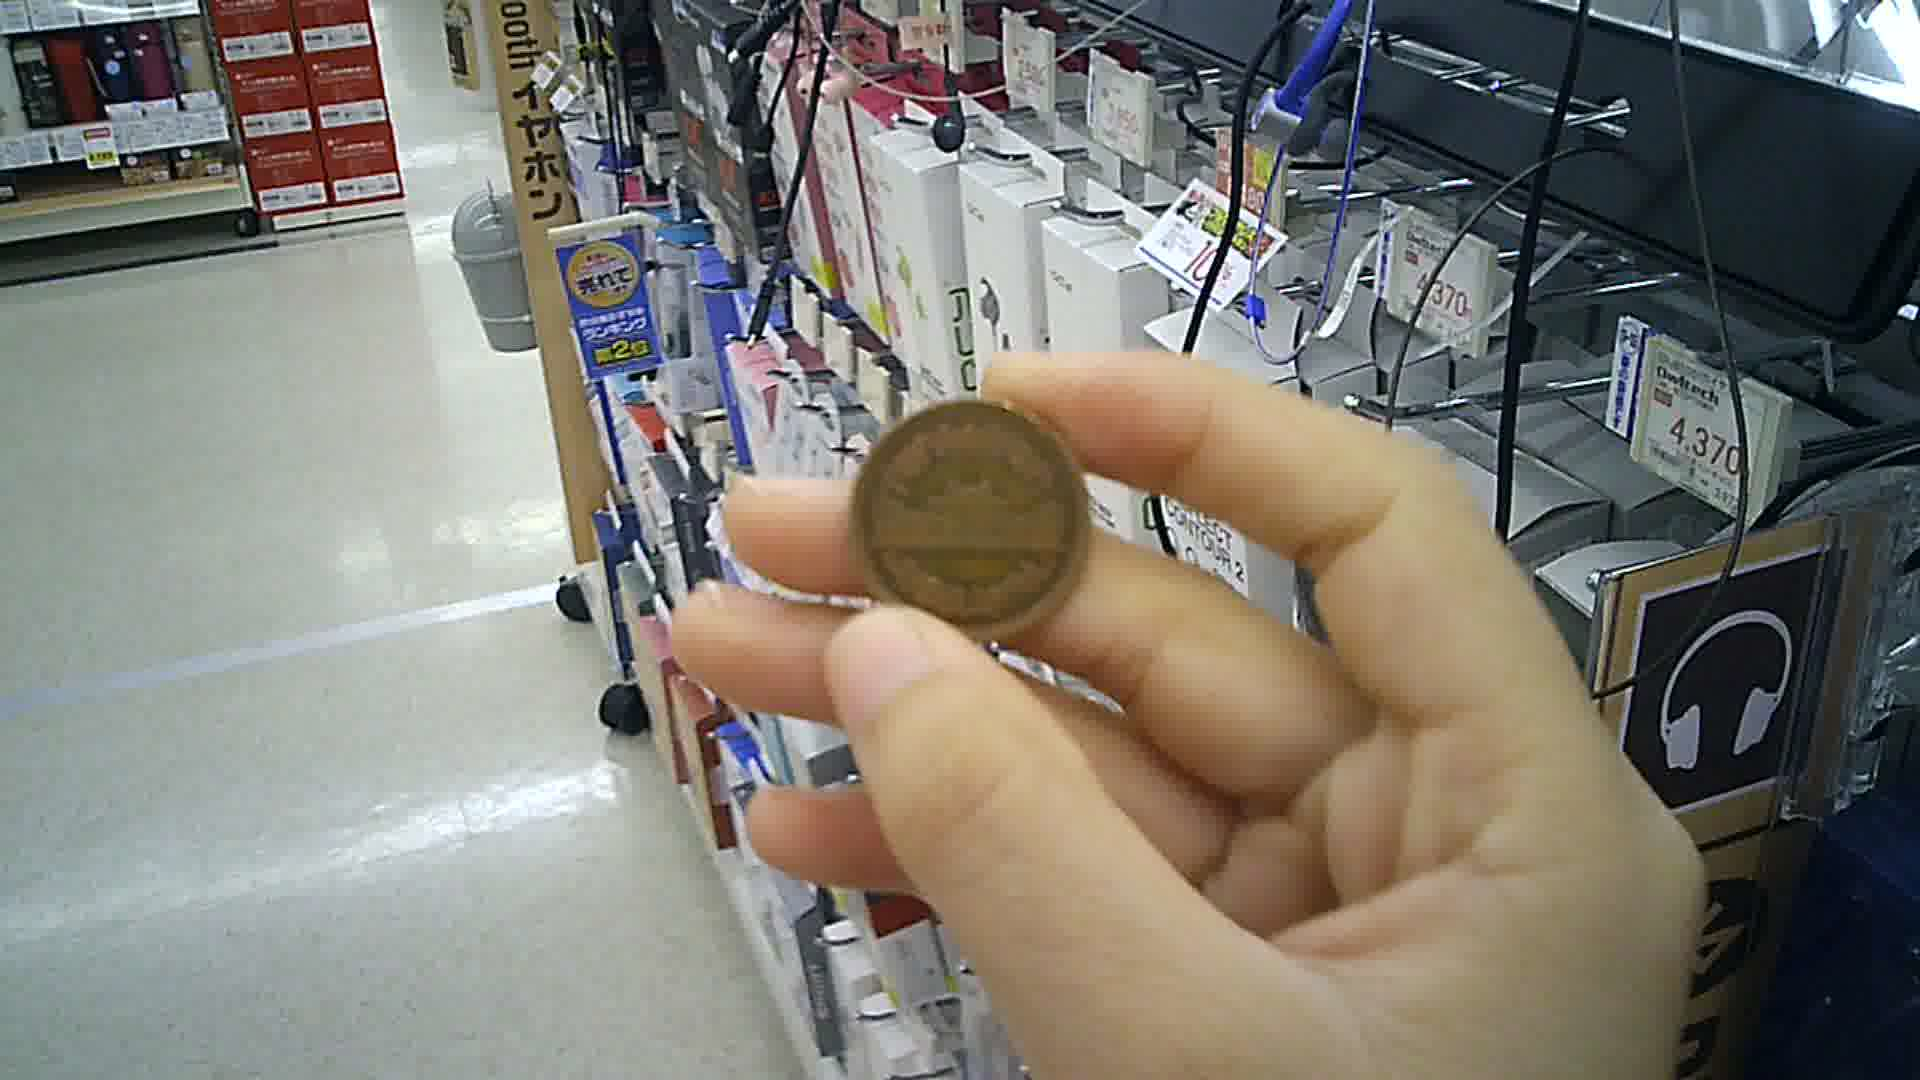10 Yen: (851, 398, 1093, 641)
